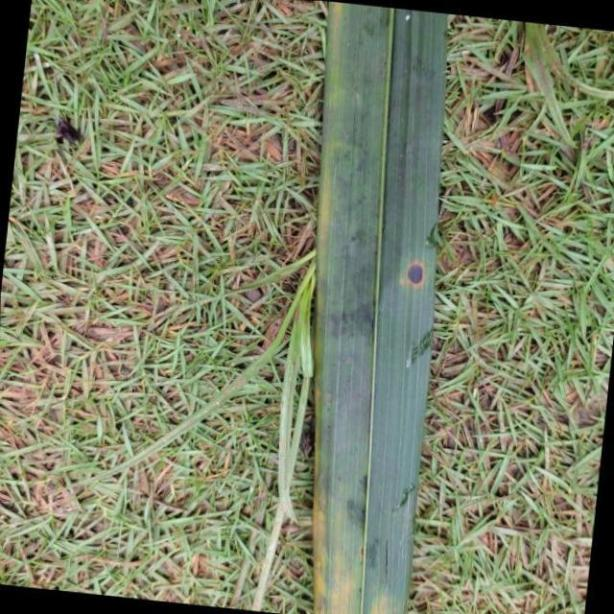Megnesium: (315, 0, 444, 614)
